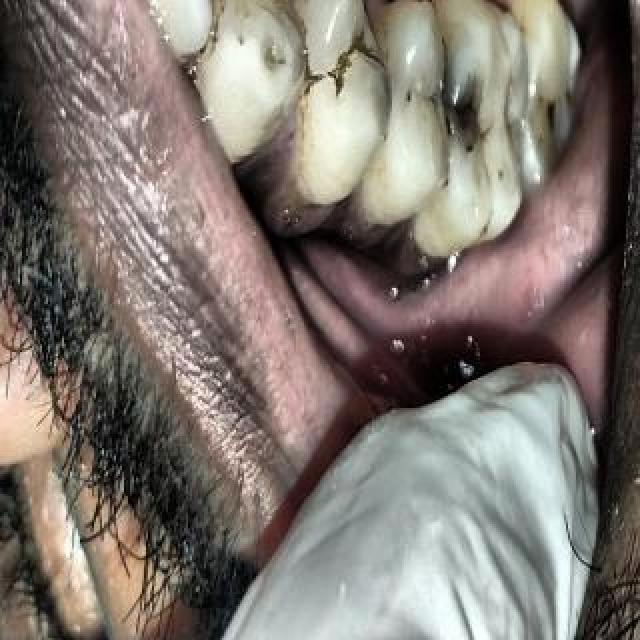cavities: (430, 47, 520, 177), (533, 76, 581, 184)
stains: (297, 10, 407, 120), (200, 0, 306, 54)
